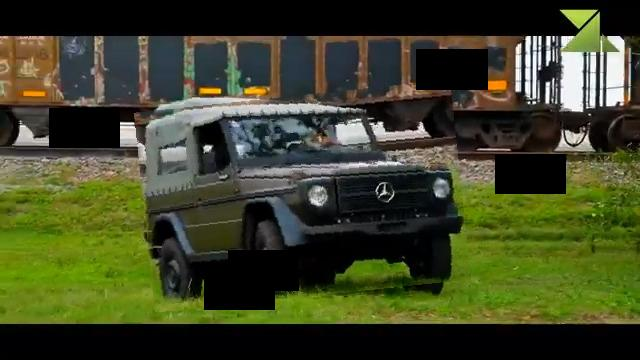MIL_HMMWV: (139, 87, 467, 304)
